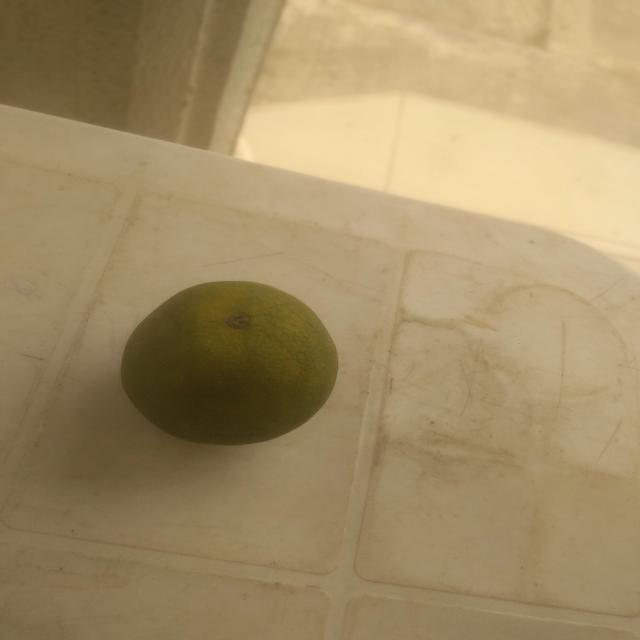Unripe: (104, 268, 368, 474)
